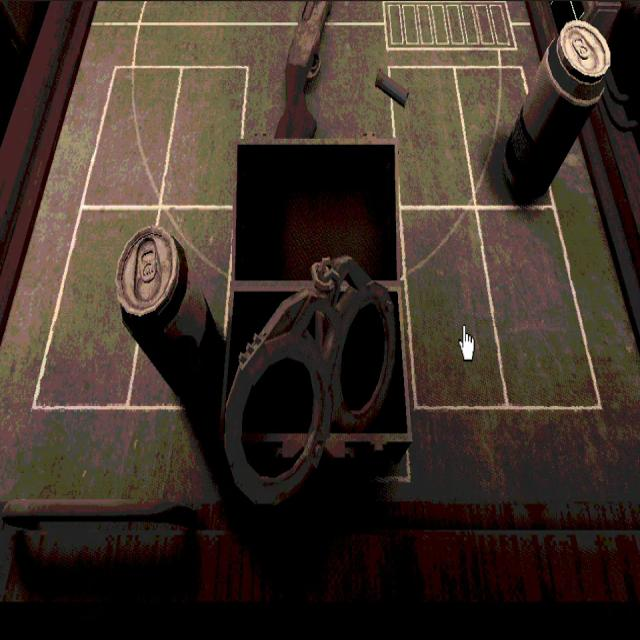ally: (0, 19, 639, 520)
can: (504, 19, 611, 200), (113, 230, 215, 395)
emptyspace: (34, 202, 156, 409), (481, 201, 601, 405), (402, 204, 510, 407), (86, 71, 179, 206), (389, 65, 476, 206), (160, 65, 247, 202)
gun: (275, 0, 324, 140)
handcuff: (224, 254, 394, 507)
inventorybox: (219, 135, 410, 451)
